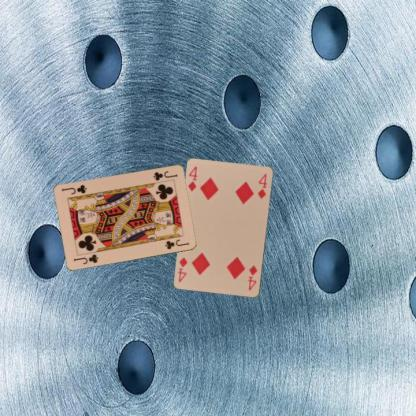4d: (245, 263, 259, 292), (185, 164, 199, 193)
Jc: (70, 251, 100, 266), (150, 168, 178, 182)
